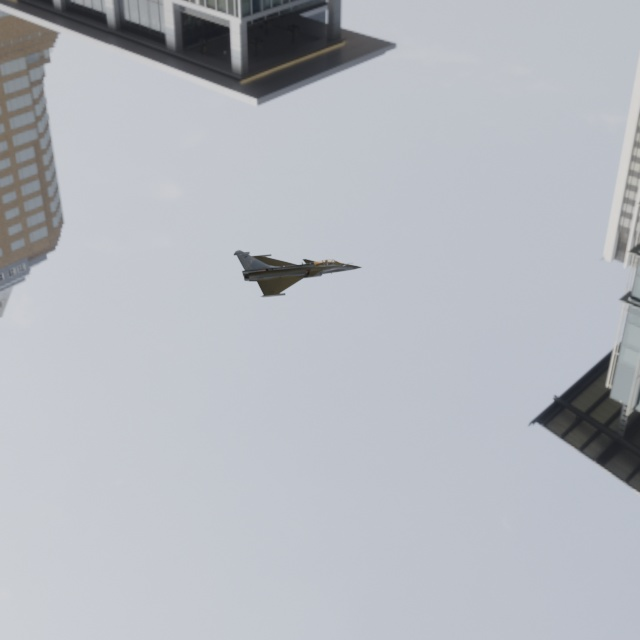dassault_rafale: (228, 222, 374, 303)
